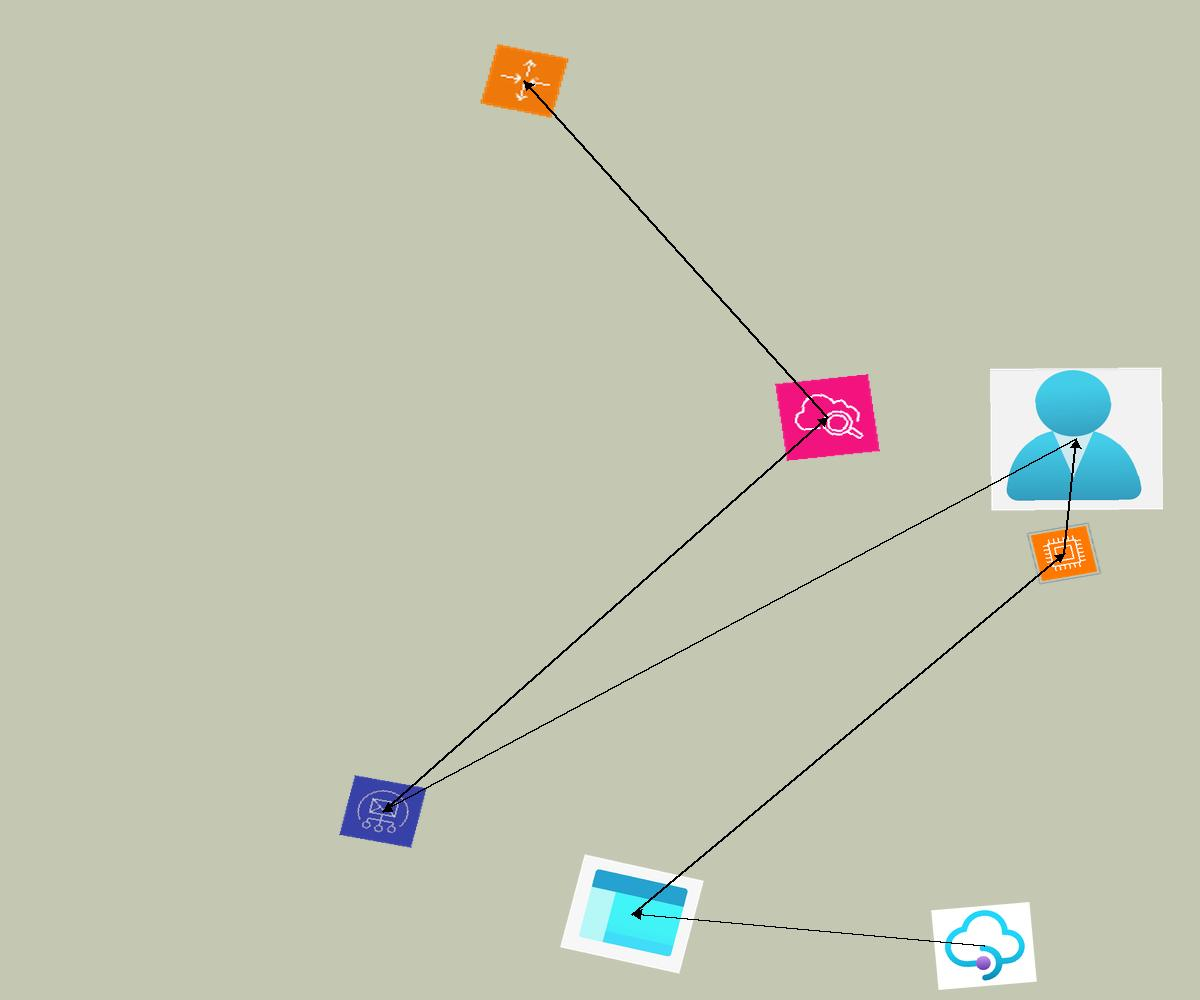AWS-Category_Compute: (1026, 522, 1102, 585)
AWS-CloudWatch: (775, 374, 880, 461)
AWS-Scaling-group: (479, 43, 570, 119)
AWS-Simple-Email-Service: (339, 775, 427, 848)
Azure_api_gateway: (931, 902, 1037, 990)
Azure_management-portal: (560, 854, 704, 974)
Azure_users: (990, 367, 1163, 511)
